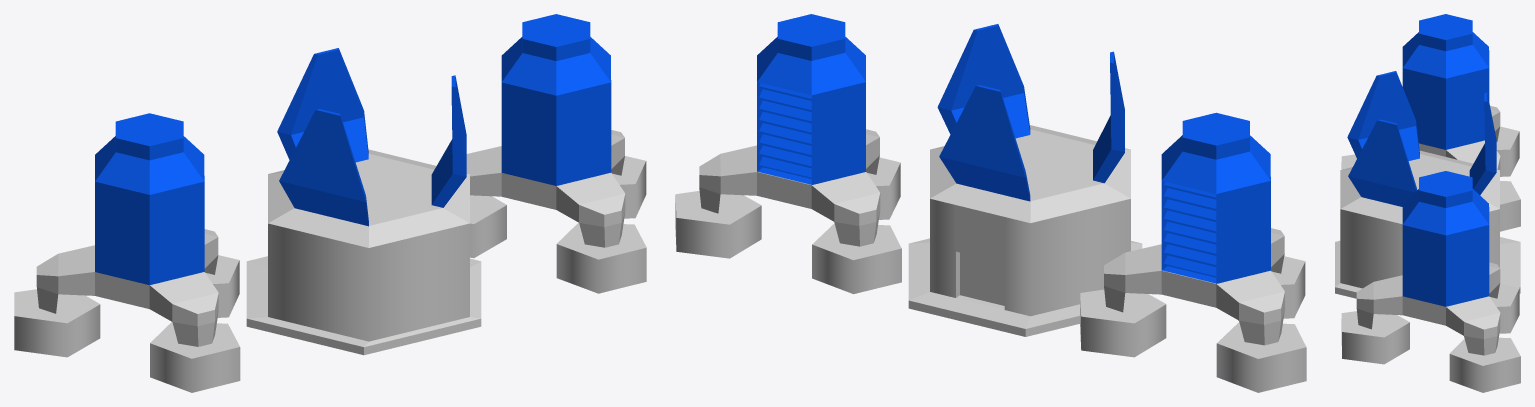
The model's file is electrostanciya_lvl3.FBX.
The picture shows the model from 3 angles, left to right: view 1: azimuth 30°, elevation 25°; view 2: azimuth 150°, elevation 25°; view 3: azimuth 270°, elevation 25°; orthographic projection. The views are drawn at different scales.
Parts seen in each view (by area): view 1: Object003, Object002, Object005, Object004, Cylinder041, Cylinder012, Cylinder005, Cylinder042, Cylinder010, Cylinder043, Cylinder011, Cylinder013 (+1 smaller); view 2: Object003, Object005, Object002, Object004, Cylinder012, Cylinder041, Cylinder005, Cylinder013, Cylinder028, Cylinder042, Cylinder011, Cylinder043 (+1 smaller); view 3: Object002, Object005, Object004, Object003, Cylinder012, Cylinder010, Cylinder013, Cylinder005, Cylinder041, Cylinder011, Cylinder042, Cylinder028 (+1 smaller).
Boxes of the visible parts, bbox=[...] form: Object003: bbox=[268, 149, 469, 341]; Object002: bbox=[501, 14, 611, 185]; Object005: bbox=[95, 113, 204, 285]; Object004: bbox=[277, 48, 466, 226]; Cylinder041: bbox=[36, 229, 218, 346]; Cylinder012: bbox=[466, 130, 625, 247]; Cylinder005: bbox=[246, 256, 481, 355]; Cylinder042: bbox=[14, 289, 100, 357]; Cylinder010: bbox=[556, 222, 646, 293]; Cylinder043: bbox=[150, 322, 240, 392]; Cylinder011: bbox=[470, 195, 506, 258]; Cylinder013: bbox=[612, 156, 646, 218]; Object003: bbox=[930, 125, 1130, 316]; Object005: bbox=[1161, 112, 1270, 283]; Object002: bbox=[757, 14, 865, 184]; Object004: bbox=[937, 24, 1124, 201]; Cylinder012: bbox=[699, 129, 880, 246]; Cylinder041: bbox=[1104, 228, 1284, 345]; Cylinder005: bbox=[908, 238, 1142, 336]; Cylinder013: bbox=[675, 190, 761, 258]; Cylinder028: bbox=[1080, 289, 1166, 357]; Cylinder042: bbox=[1216, 322, 1306, 392]; Cylinder011: bbox=[812, 223, 901, 294]; Cylinder043: bbox=[1238, 256, 1305, 320]; Object002: bbox=[1402, 171, 1489, 306]; Object005: bbox=[1402, 14, 1489, 149]; Object004: bbox=[1347, 71, 1496, 206]; Object003: bbox=[1340, 150, 1499, 288]; Cylinder012: bbox=[1356, 262, 1500, 355]; Cylinder010: bbox=[1341, 311, 1409, 364]; Cylinder013: bbox=[1449, 337, 1520, 392]; Cylinder005: bbox=[1335, 237, 1520, 298]; Cylinder041: bbox=[1419, 105, 1500, 171]; Cylinder011: bbox=[1490, 283, 1519, 333]; Cylinder042: bbox=[1496, 126, 1519, 176]; Cylinder028: bbox=[1500, 181, 1520, 231].
Bounding box in the file's own units: 446 × 148 × 143.
